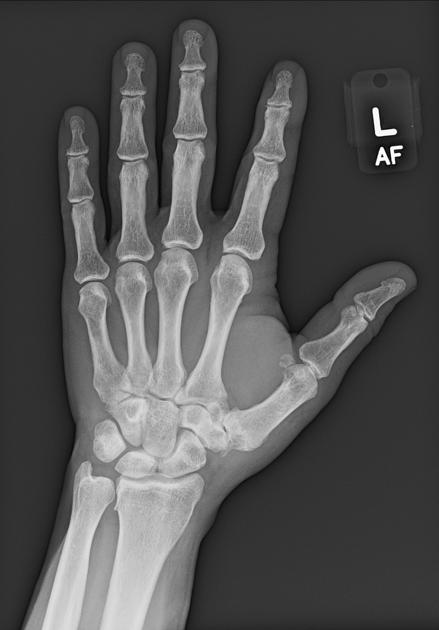fractured: (336, 306, 362, 338)
